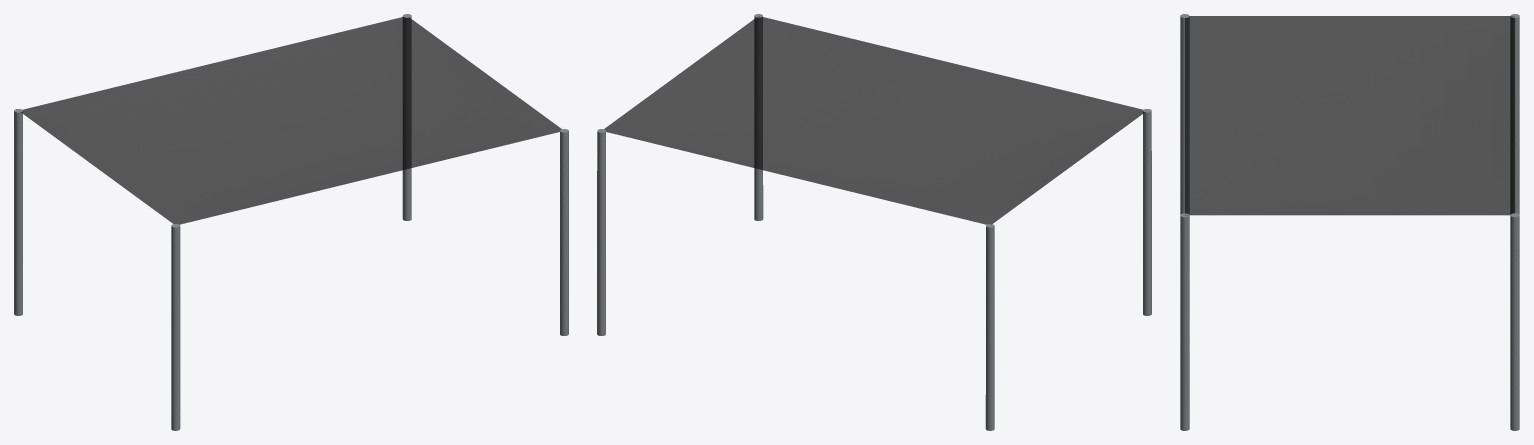
The model's file is TelemSmallReshetTzel_LOD1.gltf.
3 renders of one model, left to right at view 1: azimuth 30°, elevation 25°; view 2: azimuth 150°, elevation 25°; view 3: azimuth 270°, elevation 25°, orthographic. The views are drawn at different scales.
Visible parts, largest first — view 1: node4, node3; view 2: node4, node3; view 3: node4, node3.
Boxes of the visible parts, left/top/right/bottom form: node4: left=21, top=17, right=561, bottom=224; node3: left=14, top=14, right=568, bottom=430; node4: left=604, top=16, right=1144, bottom=224; node3: left=597, top=14, right=1151, bottom=430; node4: left=1185, top=16, right=1514, bottom=215; node3: left=1180, top=14, right=1519, bottom=430.
Size of the model in its own units: 5.1 by 2.5 by 3.6.
